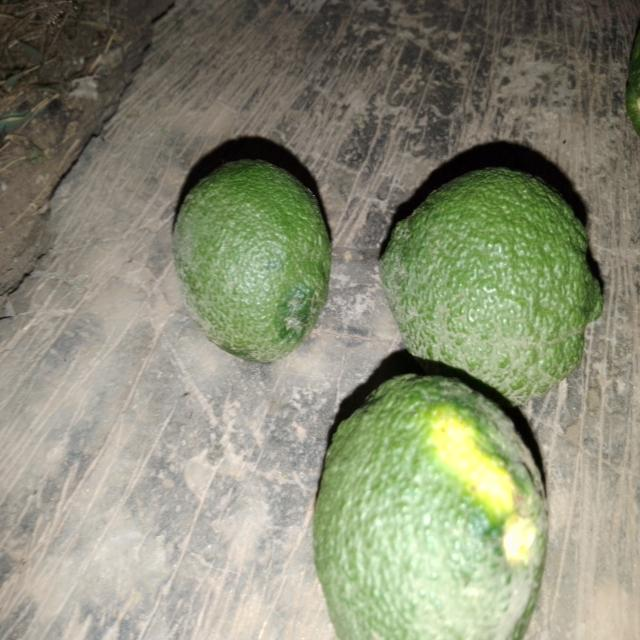Unripe: (368, 142, 612, 456), (306, 379, 557, 640), (157, 137, 358, 376)
